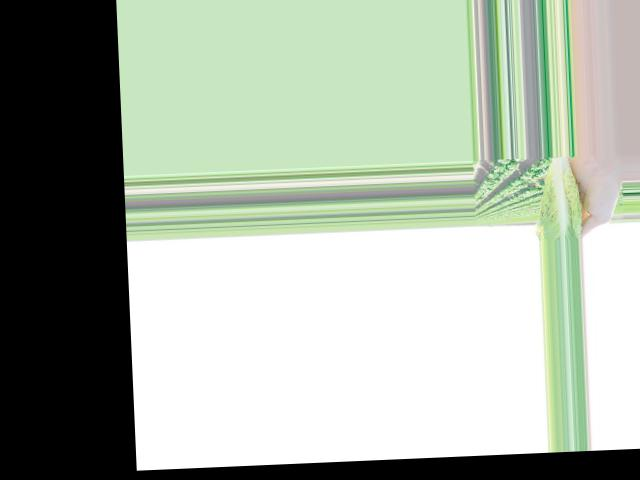lettuce: (534, 154, 582, 238)
